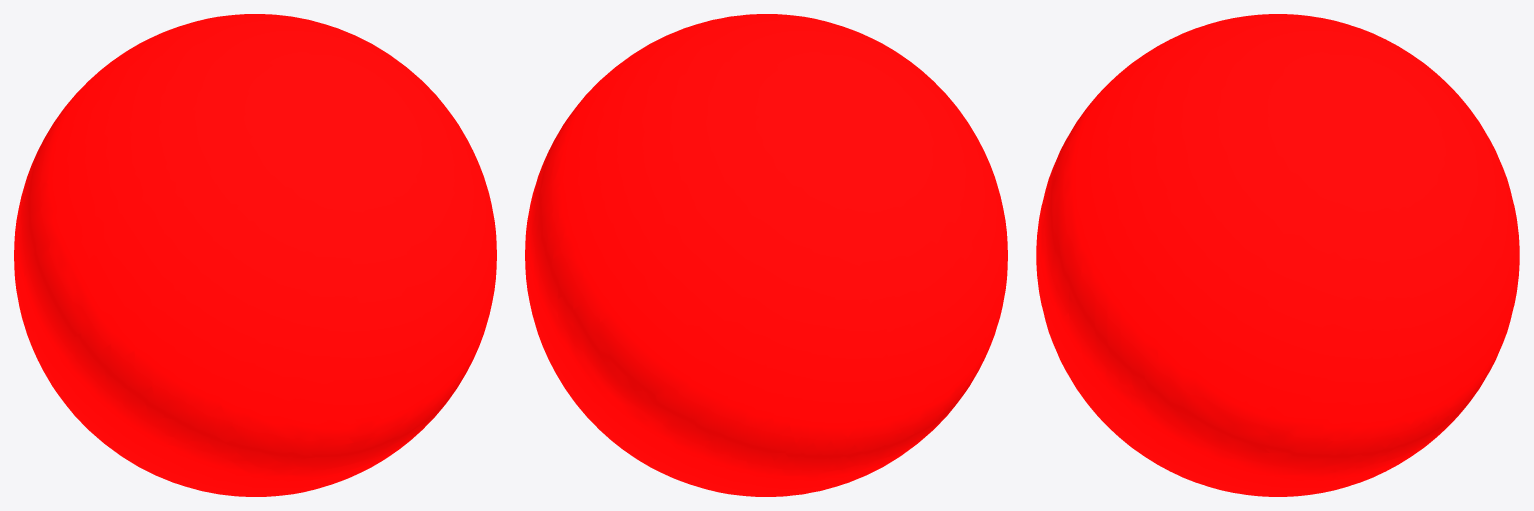
Rendered from orbital_n1_l0_m0_complex_phase.fbx.
3 views of the same model, side by side, from view 1: azimuth 30°, elevation 25°; view 2: azimuth 150°, elevation 25°; view 3: azimuth 270°, elevation 25° (orthographic).
Parts seen in each view (by area): view 1: orbital_n1_l0_m0_complex_phase; view 2: orbital_n1_l0_m0_complex_phase; view 3: orbital_n1_l0_m0_complex_phase.
Part boxes in pixels (<box>): orbital_n1_l0_m0_complex_phase: <box>14,14,496,496</box>; orbital_n1_l0_m0_complex_phase: <box>525,14,1007,496</box>; orbital_n1_l0_m0_complex_phase: <box>1036,14,1519,496</box>.
Size of the model in its own units: 483 by 483 by 483.
